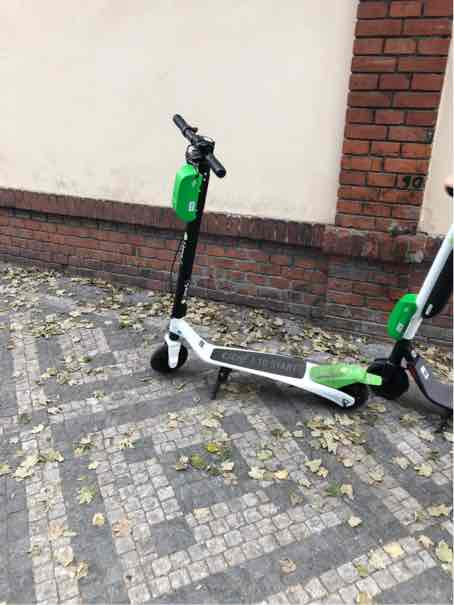scooter: (138, 108, 397, 421)
